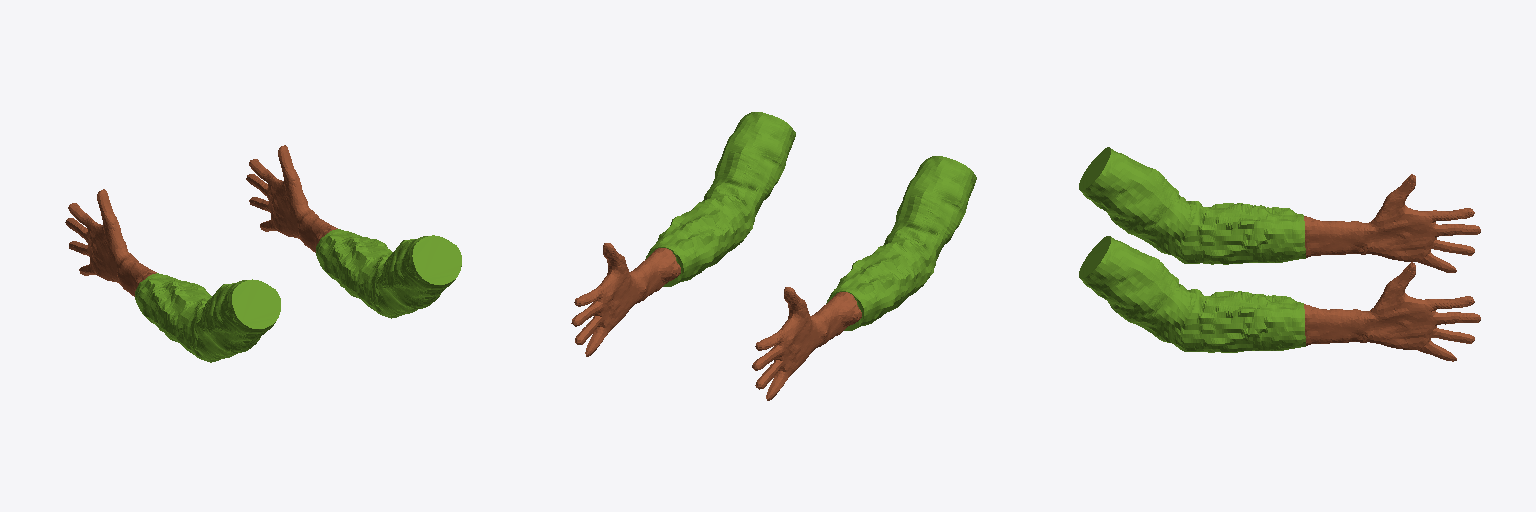
Rendered from hands.obj.
The picture shows the model from 3 angles: view 1: azimuth 30°, elevation 25°; view 2: azimuth 150°, elevation 25°; view 3: azimuth 270°, elevation 25°; orthographic projection.
Visible parts, largest first — view 1: Cube.001, Cube; view 2: Cube, Cube.001; view 3: Cube.001, Cube.
Boxes of the visible parts, box(x1,y1,x2,y2) form: Cube.001: box(65, 189, 280, 362); Cube: box(246, 145, 461, 318); Cube: box(571, 112, 795, 356); Cube.001: box(752, 156, 976, 400); Cube.001: box(1079, 147, 1480, 272); Cube: box(1079, 236, 1480, 361).
Bounding box in the file's own units: 6.94 × 3.34 × 10.16.